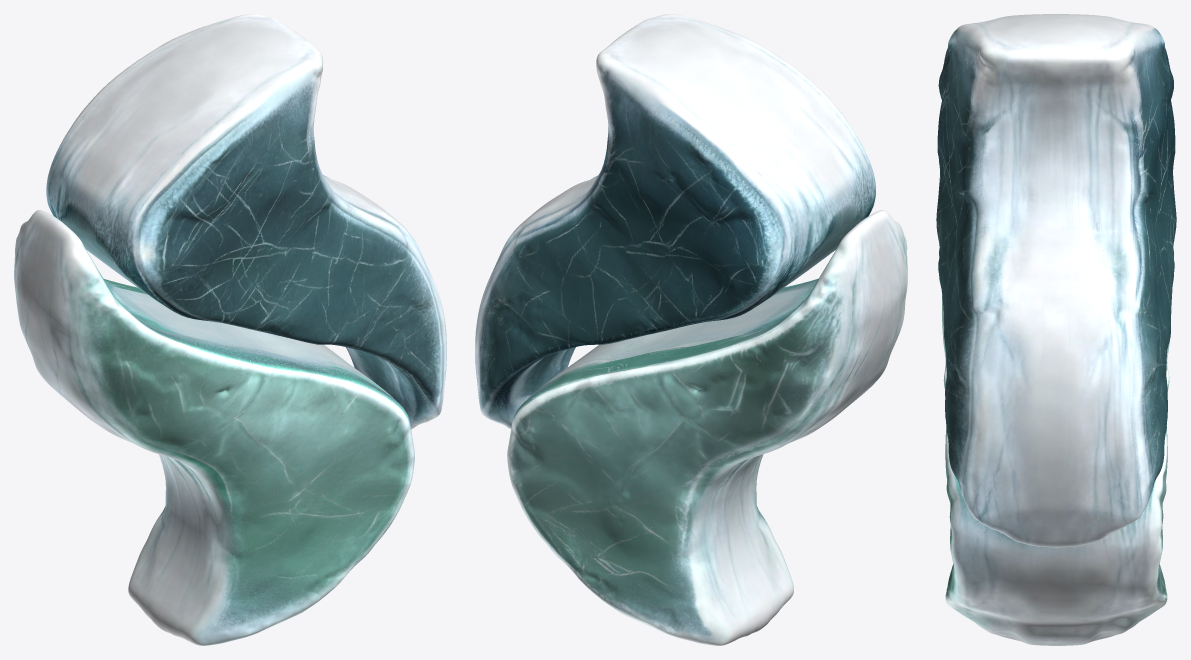
Rendered from opt_ice_sculpture.glb.
3 views of the same model, side by side, from view 1: azimuth 30°, elevation 25°; view 2: azimuth 150°, elevation 25°; view 3: azimuth 270°, elevation 25° (orthographic). The views are drawn at different scales.
Bounding box in the file's own units: 1.34 × 1.9 × 0.6695.
Materials: 1 (1 with a texture image).
